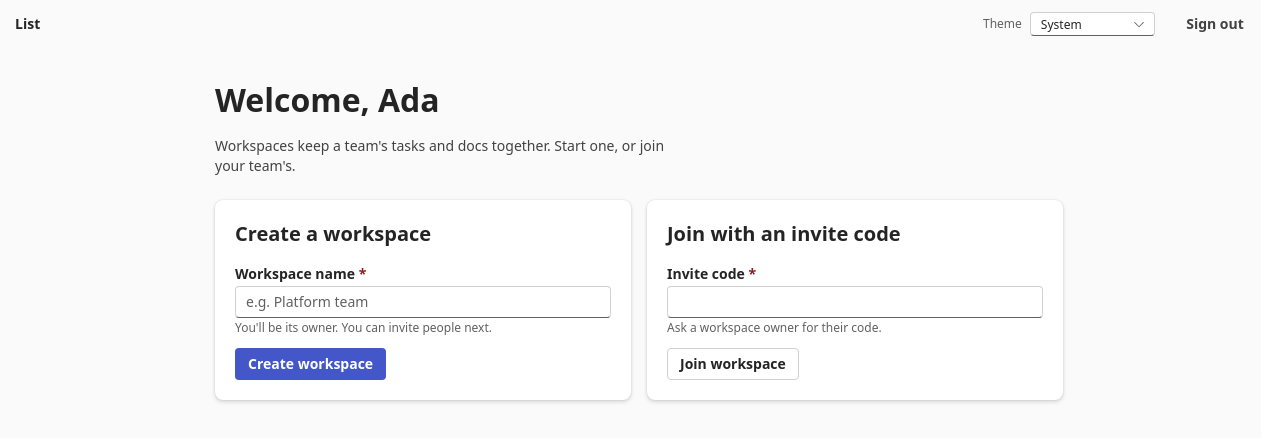
Test: onboarding › shows the server's message for a bad invite code
Type "nope" into the field labelled "Invite code *".
click(855, 302); type("nope")  # box top-left (667, 286), bottom-right (1043, 318)
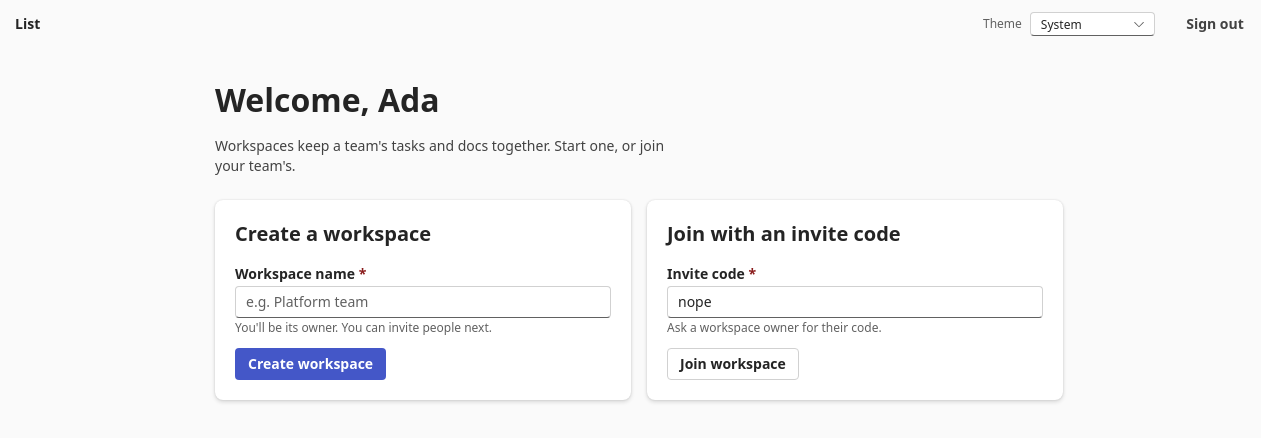
Click the button "Join workspace".
click(733, 364)  # box top-left (667, 348), bottom-right (799, 380)
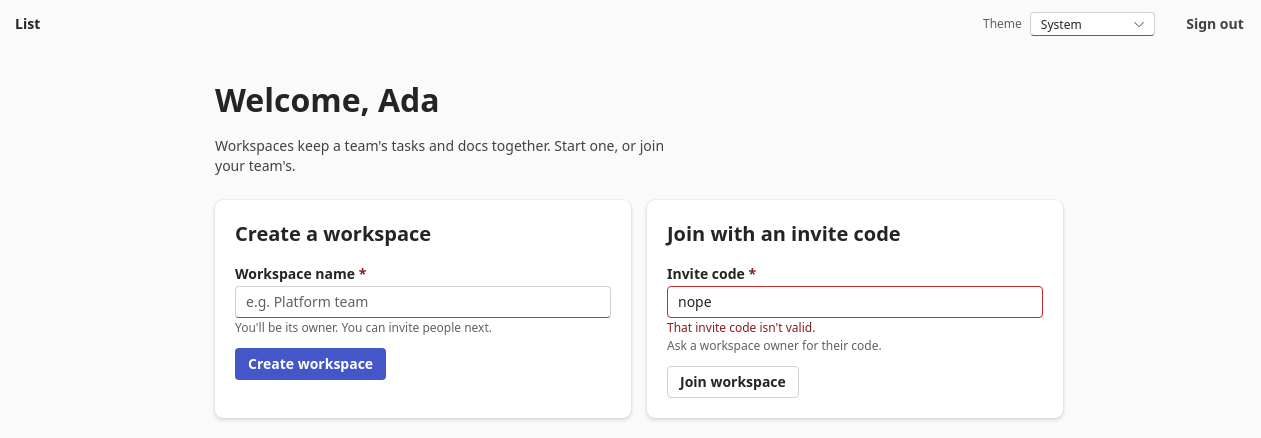
Expected: the text "That invite code isn't valid." is shown, top-left (667, 319), bottom-right (815, 336)
